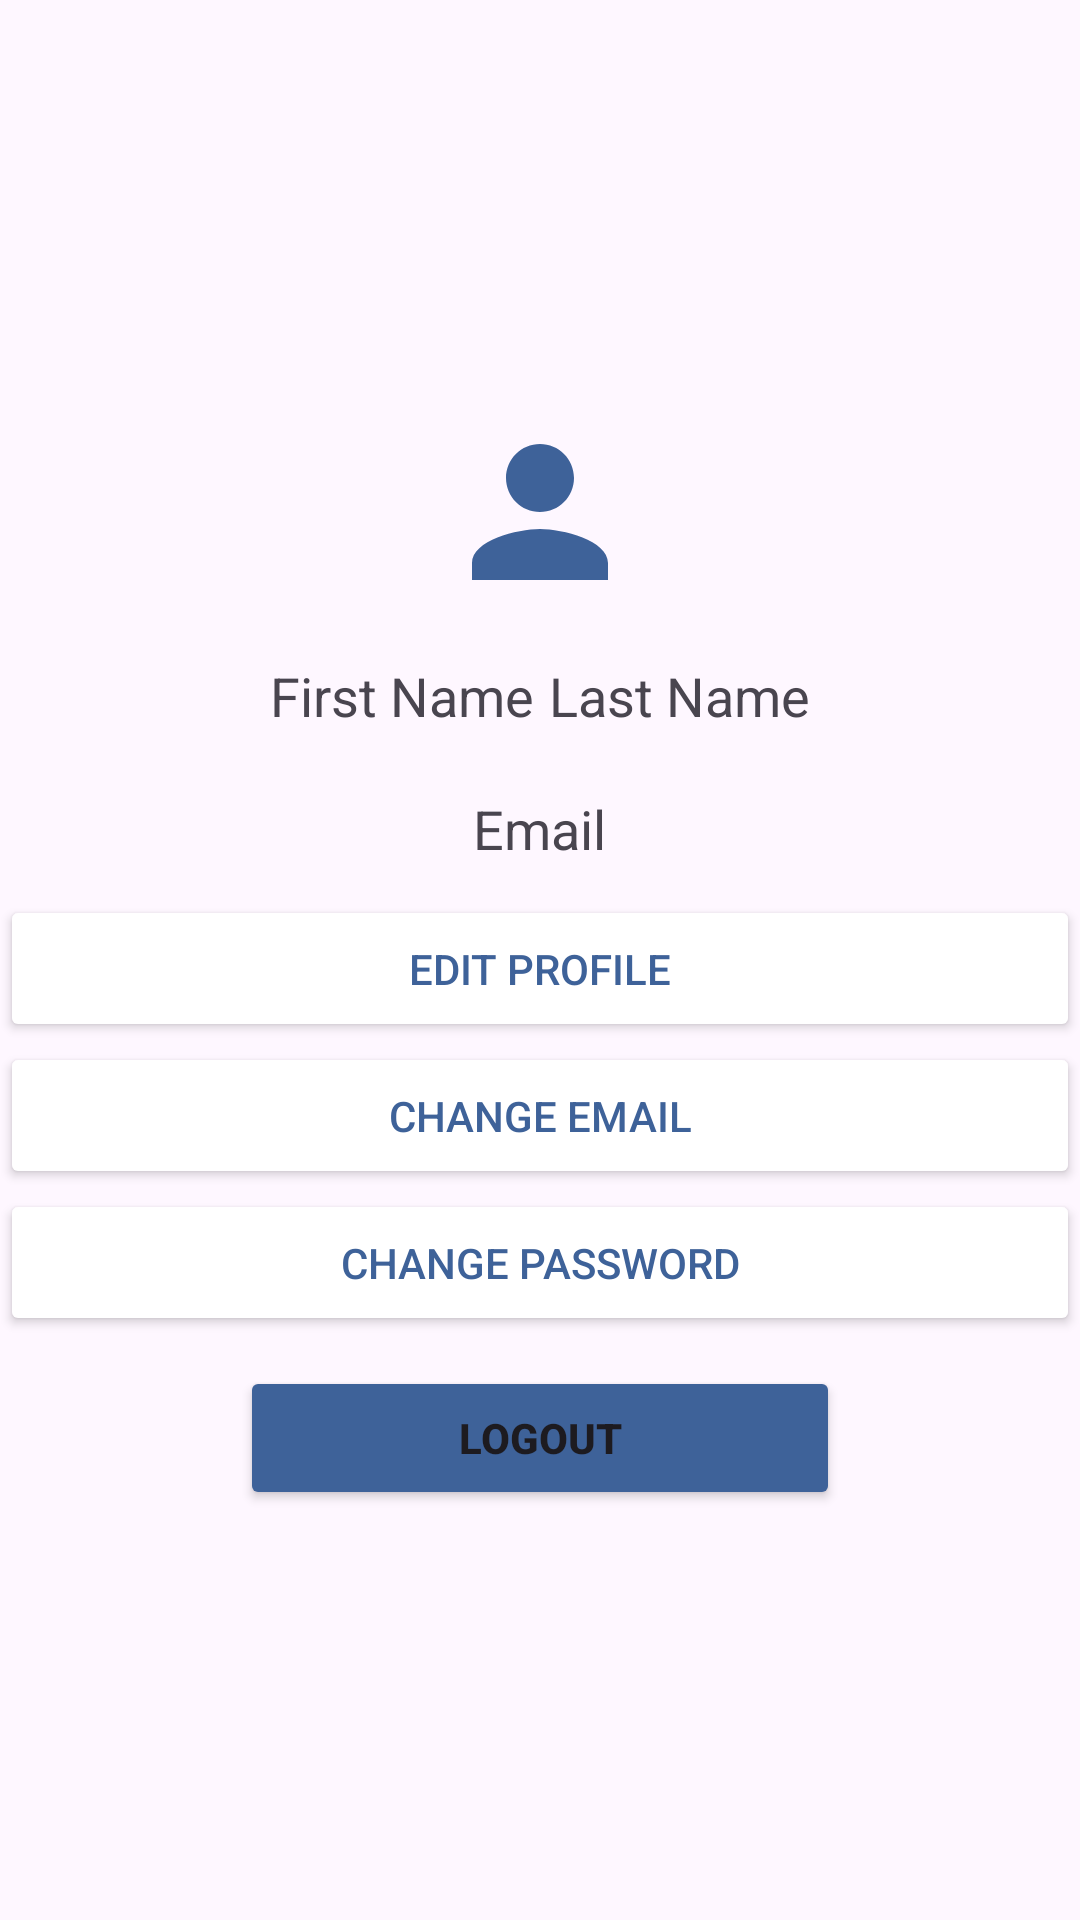

Screen size 1080px x 1920px. Icon name, then its box in pixels as (x1, y1, x2, y2):
Profile: (472, 444, 608, 580)
